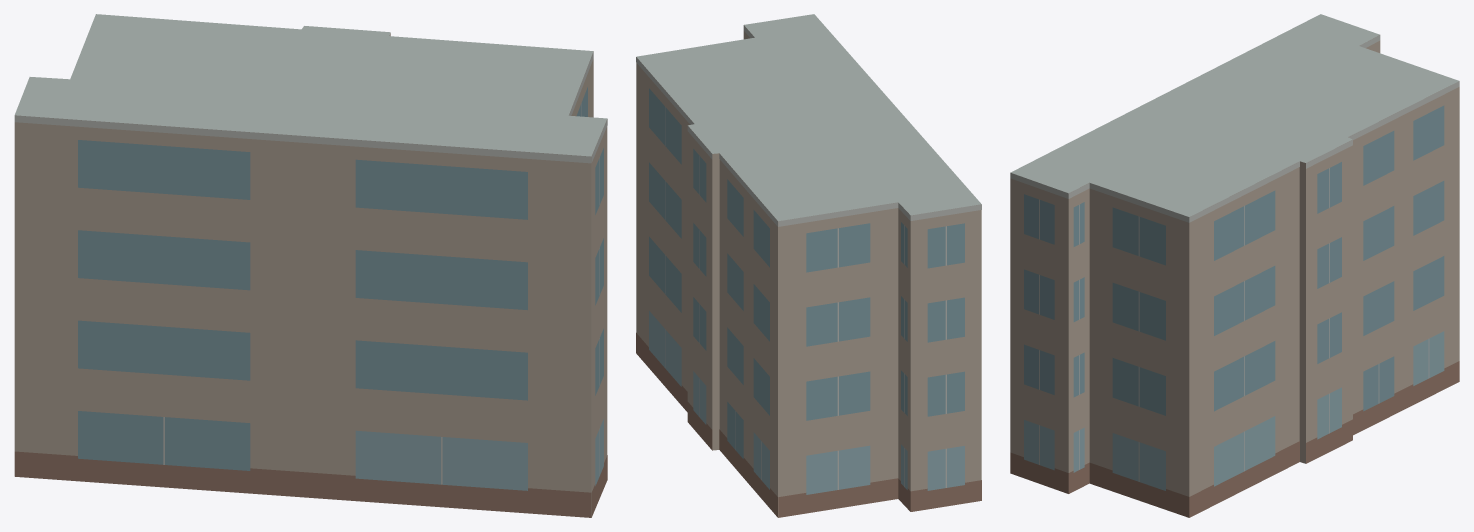
Rendered from survey-upis-32747651.glb.
The picture shows the model from 3 angles, left to right: view 1: azimuth 30°, elevation 25°; view 2: azimuth 150°, elevation 25°; view 3: azimuth 270°, elevation 25°; orthographic projection. The views are drawn at different scales.
Parts seen in each view (by area): view 1: survey-upis-32747651.tmp; view 2: survey-upis-32747651.tmp; view 3: survey-upis-32747651.tmp.
Boxes of the visible parts, x1=… form: survey-upis-32747651.tmp: x1=14, y1=14, x2=607, y2=517; survey-upis-32747651.tmp: x1=636, y1=14, x2=981, y2=517; survey-upis-32747651.tmp: x1=1010, y1=14, x2=1459, y2=517.
Bounding box in the file's own units: 18.55 × 12.8 × 17.34.
